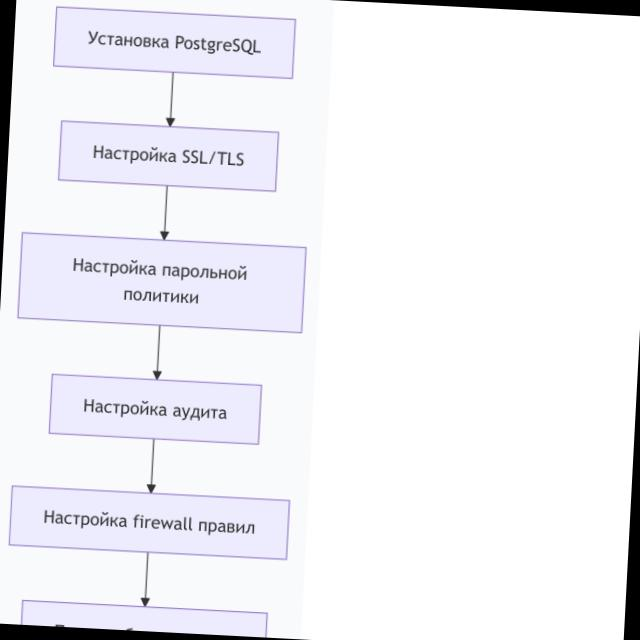arrow: (157, 186, 174, 241), (164, 73, 180, 128), (151, 326, 166, 380), (145, 439, 160, 493), (139, 553, 154, 607)
rectangle: (16, 230, 308, 334), (8, 485, 292, 562), (53, 6, 297, 80), (57, 119, 280, 193), (48, 373, 263, 446)
